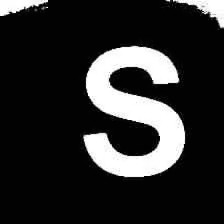LTR_S: (67, 28, 193, 182)
